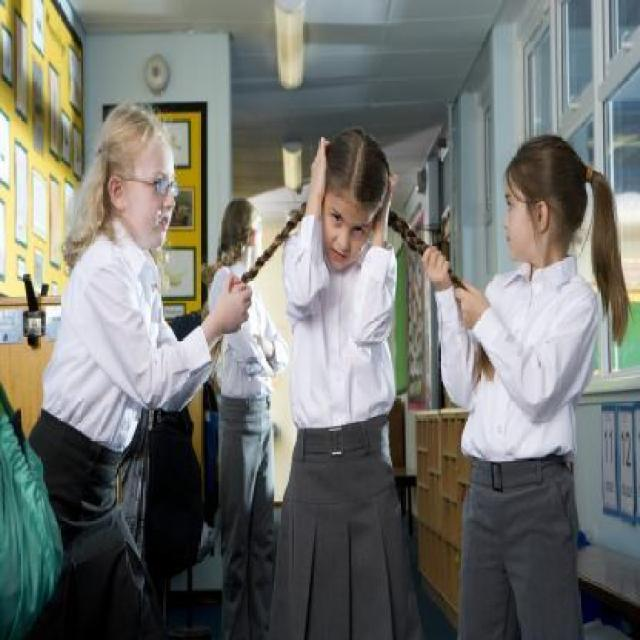fight: (32, 51, 632, 640)
